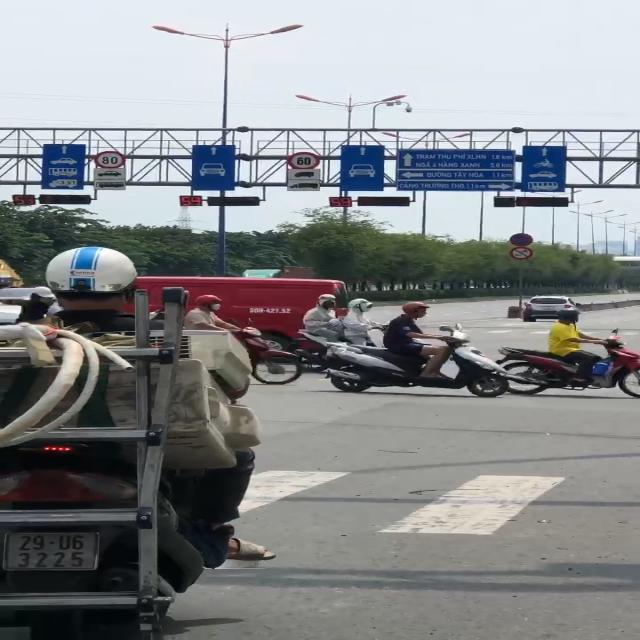Bien bao toc do toi da cho phep: (92, 149, 128, 170), (286, 150, 321, 171)
